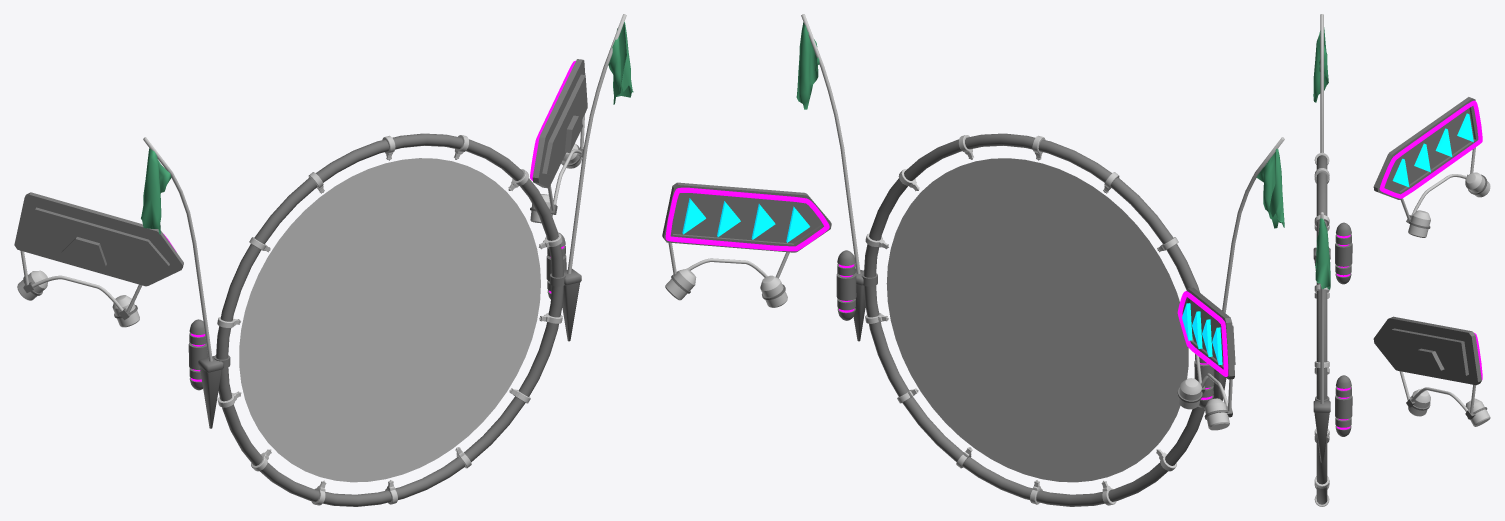
The model's file is FinishLine.fbx.
3 views of the same model, side by side, from view 1: azimuth 30°, elevation 25°; view 2: azimuth 150°, elevation 25°; view 3: azimuth 270°, elevation 25° (orthographic). The views are drawn at different scales.
Visible parts, largest first — view 1: Teleporter, Signs, Ring, Flags, Bollards; view 2: Teleporter, Signs, Ring, Flags, Bollards; view 3: Signs, Flags, Ring, Bollards.
Boxes of the visible parts, left/top/right/bottom form: Teleporter: left=239, top=158, right=540, bottom=482; Signs: left=14, top=59, right=587, bottom=327; Ring: left=214, top=133, right=565, bottom=506; Flags: left=141, top=14, right=633, bottom=428; Bollards: left=188, top=232, right=566, bottom=390; Teleporter: left=886, top=158, right=1188, bottom=482; Signs: left=662, top=182, right=1235, bottom=430; Ring: left=861, top=133, right=1204, bottom=506; Flags: left=796, top=14, right=1284, bottom=400; Bollards: left=836, top=250, right=1214, bottom=408; Signs: left=1373, top=97, right=1490, bottom=426; Flags: left=1313, top=14, right=1330, bottom=462; Ring: left=1314, top=152, right=1329, bottom=506; Bollards: left=1335, top=222, right=1352, bottom=436.
Bounding box in the file's own units: 2447 × 1765 × 749.
